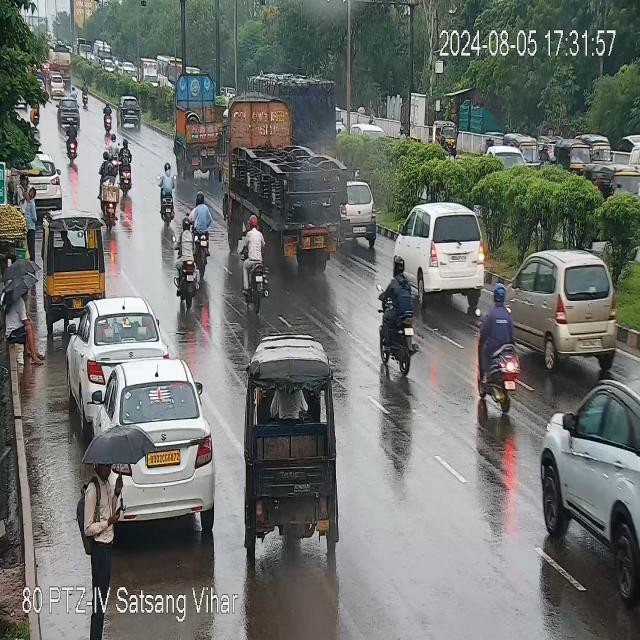2-wheelers: (475, 292, 523, 424), (382, 260, 420, 374), (241, 211, 269, 311), (178, 207, 202, 311), (194, 193, 216, 265), (122, 143, 137, 196), (60, 91, 80, 129), (162, 164, 175, 222), (66, 119, 80, 163), (105, 100, 114, 139)
auto: (244, 342, 340, 550), (546, 143, 594, 186), (436, 116, 460, 155)
car: (101, 356, 215, 534), (545, 373, 640, 581), (506, 255, 622, 360), (390, 195, 487, 309), (65, 298, 161, 411), (36, 212, 112, 301), (342, 176, 382, 240), (120, 98, 145, 131)
pedestrian: (83, 454, 117, 632), (5, 286, 45, 372), (26, 183, 40, 250), (104, 164, 119, 224)
truck: (225, 99, 349, 254), (244, 72, 334, 165), (172, 74, 225, 182), (37, 33, 76, 80)
